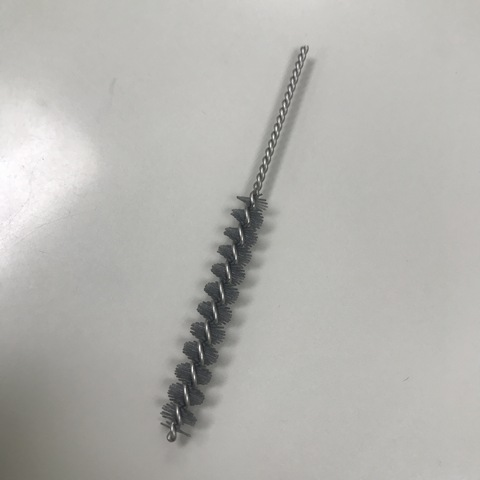Twist Brush-A: (158, 31, 313, 445)
